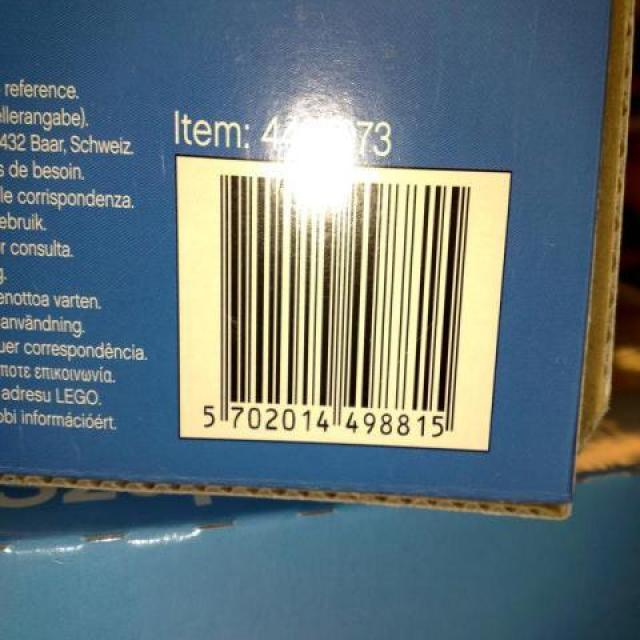Barcode: (177, 158, 512, 450)
